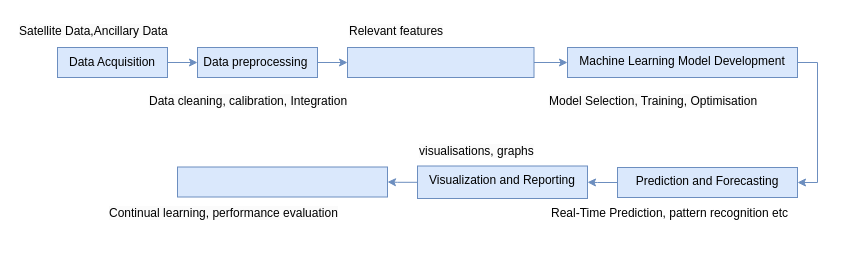
The diagram is 843 pixels wide and 256 high, and some of its shapes have lost their labels. The shapes that lost their labels are listed below. From the top down, each one's box as (x1, y1, x2, y2) in pixels, then its label:
(346, 46, 534, 78): Feature Extraction and Selection
(176, 166, 388, 197): Feedback Loop and Model Updating
